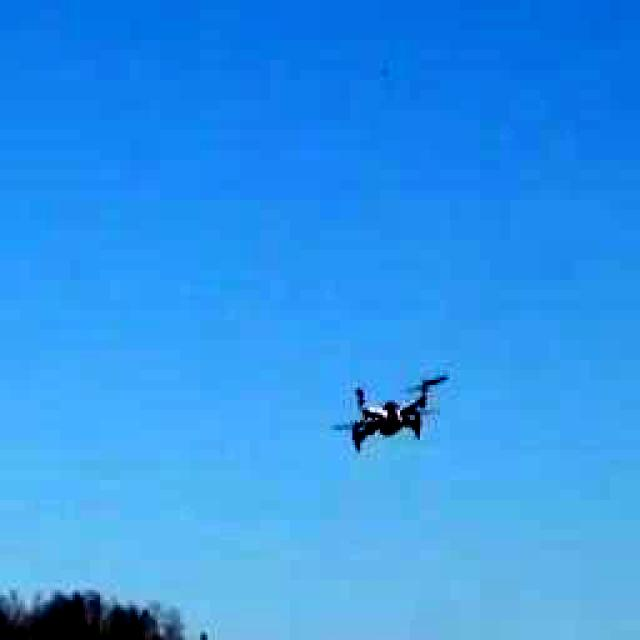bird: (316, 355, 454, 475)
